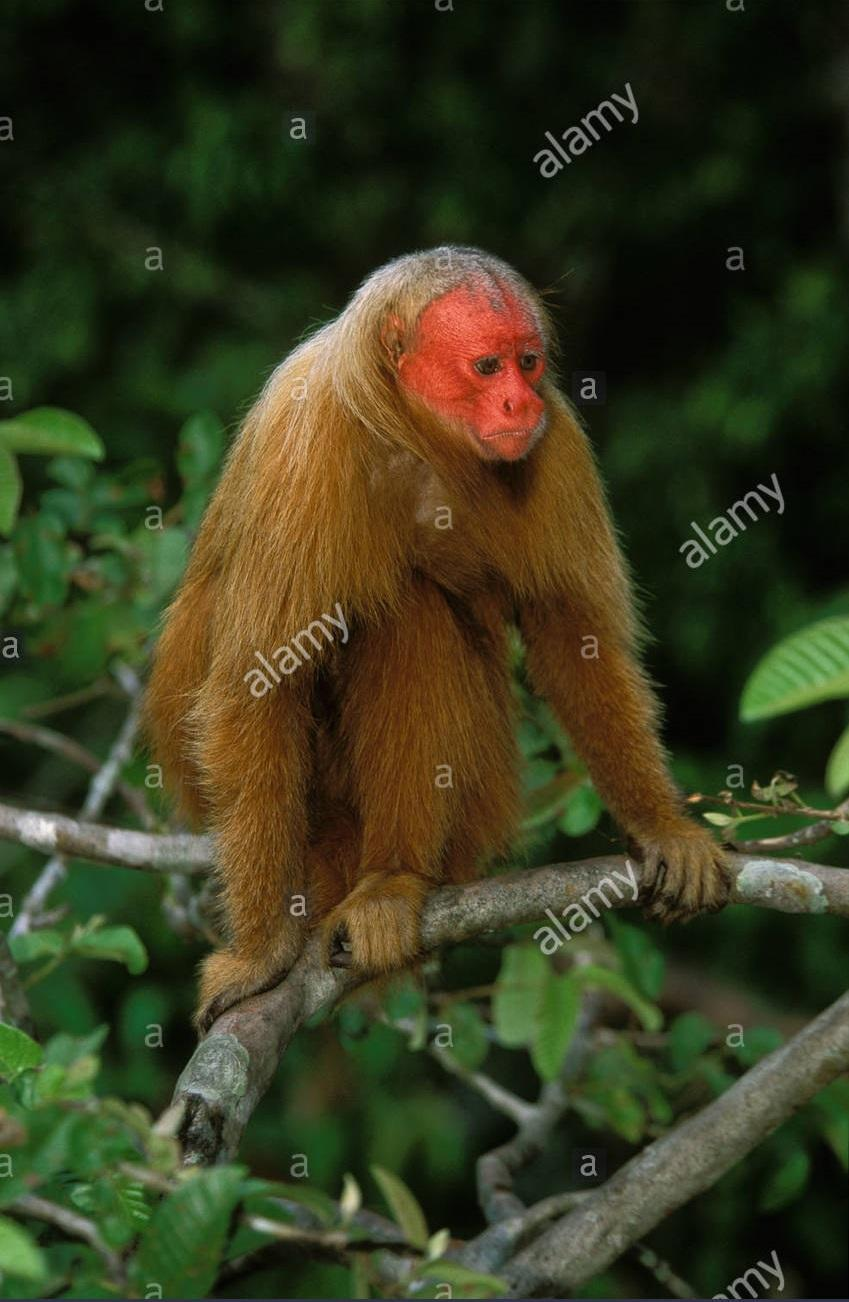monkey: (142, 248, 738, 1174)
